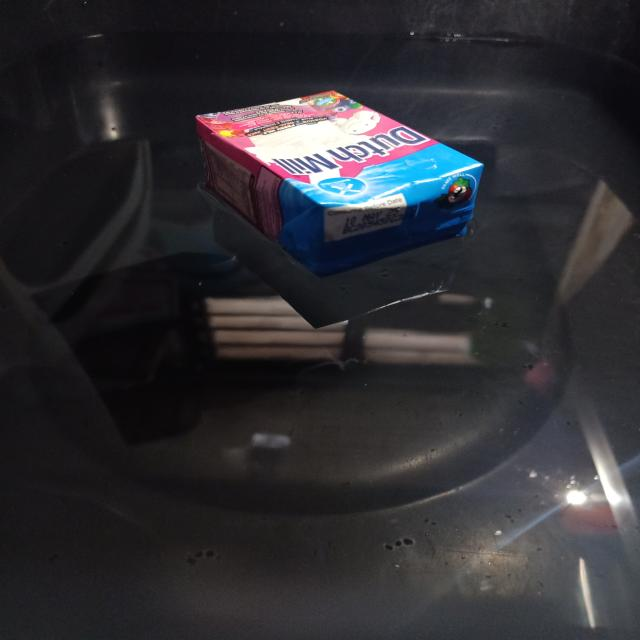Cardboard Box: (196, 90, 484, 276)
